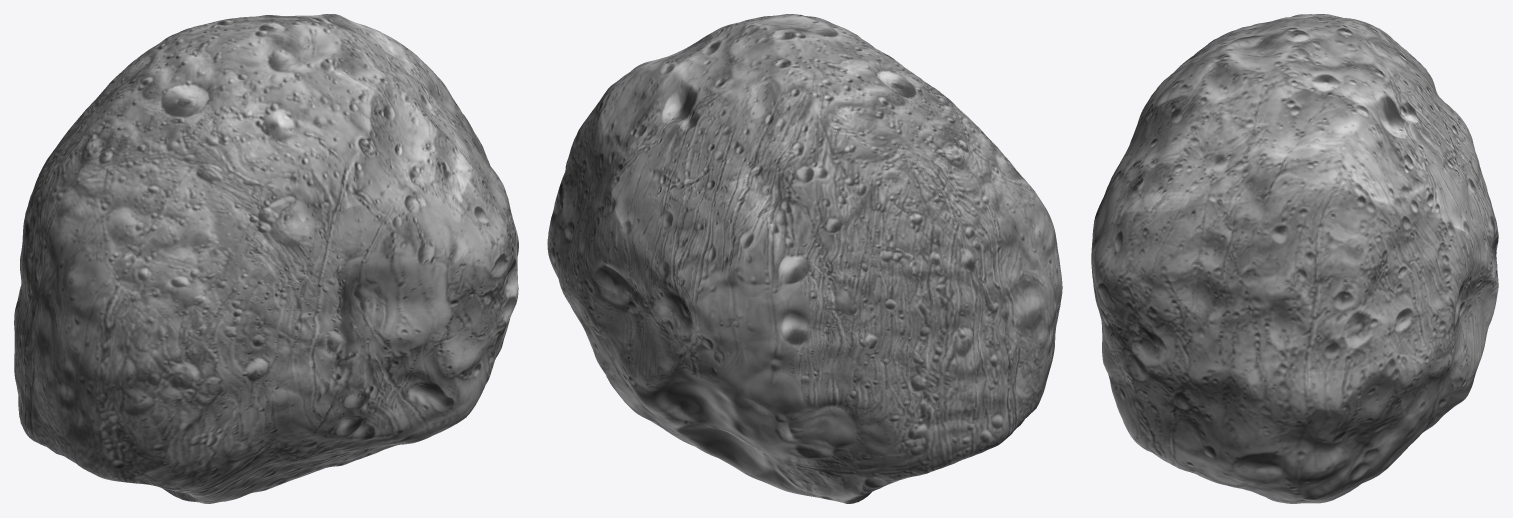
The model's file is fobos.glb.
3 renders of one model, left to right at view 1: azimuth 30°, elevation 25°; view 2: azimuth 150°, elevation 25°; view 3: azimuth 270°, elevation 25°, orthographic. The views are drawn at different scales.
Parts seen in each view (by area): view 1: Fobos; view 2: Fobos; view 3: Fobos.
Boxes of the visible parts, <box> form: Fobos: <box>14,14,518,503</box>; Fobos: <box>547,14,1062,503</box>; Fobos: <box>1091,14,1498,503</box>.
Size of the model in its own units: 1887 by 1715 by 1412.
Materials: 1 (1 with a texture image).
